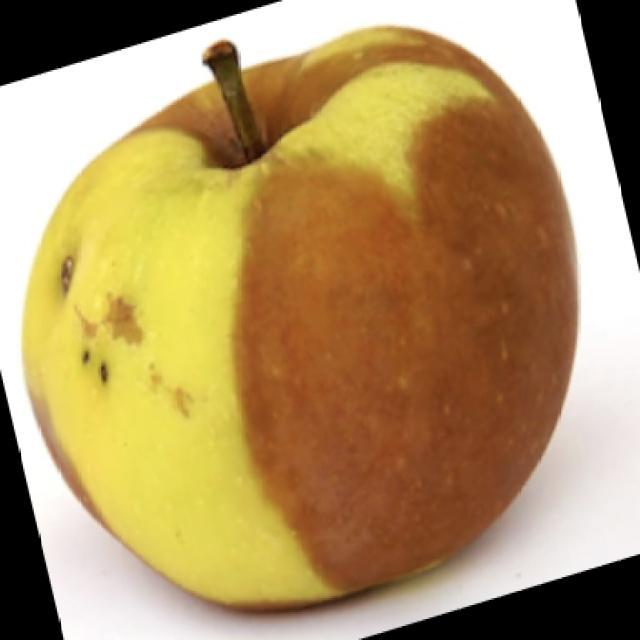Rotten: (35, 32, 570, 600)
